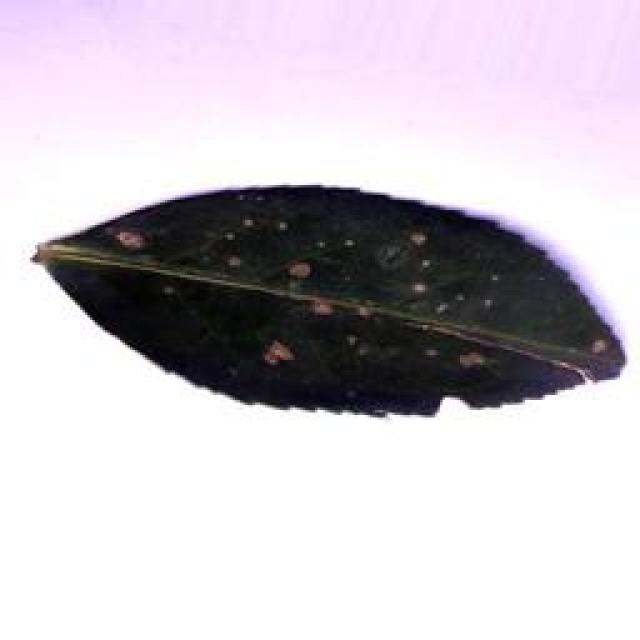Algal Leaf Spot: (26, 182, 634, 430)
